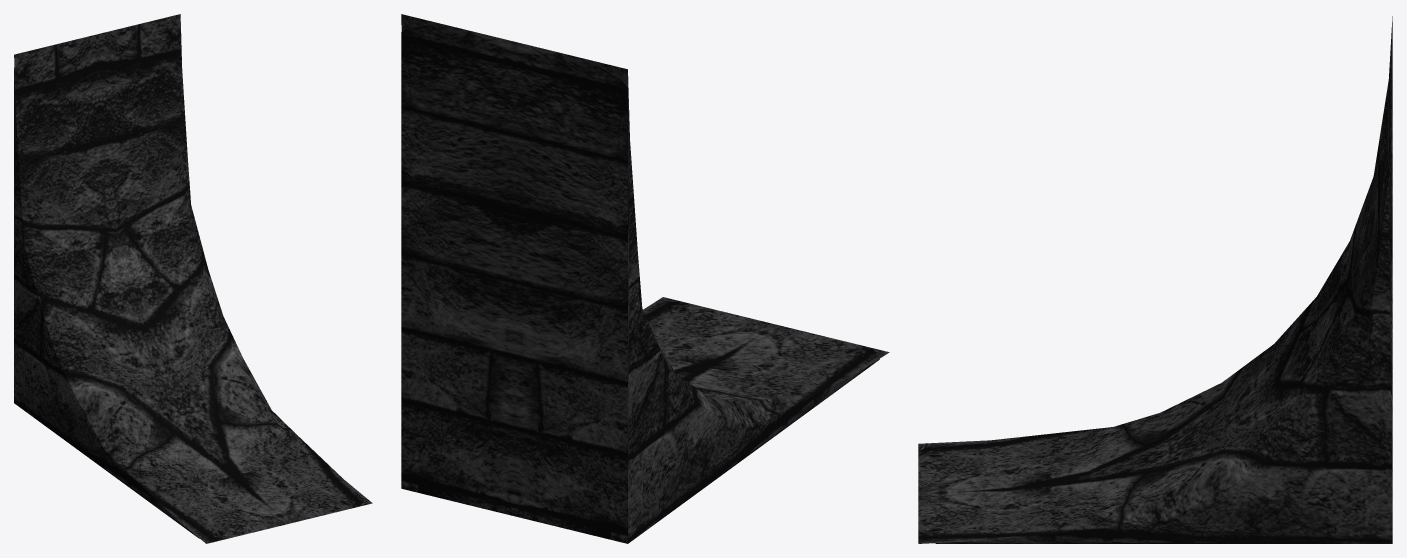
File: Ceiling Detail.FBX
3 renders of one model, left to right at view 1: azimuth 30°, elevation 25°; view 2: azimuth 150°, elevation 25°; view 3: azimuth 270°, elevation 25°, orthographic. The views are drawn at different scales.
Parts seen in each view (by area): view 1: Box001; view 2: Box001; view 3: Box001.
Part boxes in pixels (x1,y1,x2,y2): Box001: [14, 14, 372, 543]; Box001: [401, 14, 889, 543]; Box001: [918, 16, 1392, 543].
Bounding box in the file's own units: 19.69 × 39.37 × 39.37.
1 material, 1 textured.
